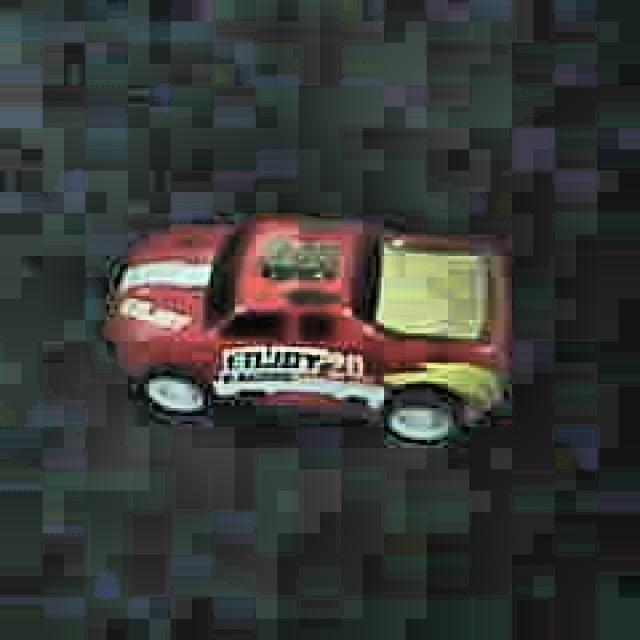car: (106, 209, 511, 446)
